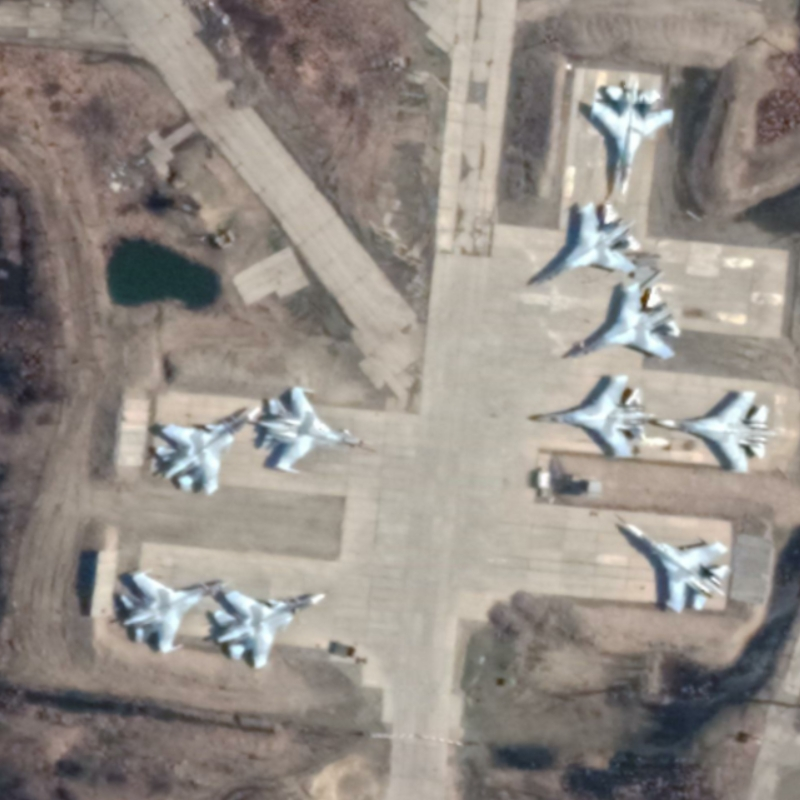A1: (611, 509, 734, 616), (249, 383, 382, 478), (529, 372, 663, 461), (649, 387, 780, 478), (586, 73, 677, 196), (529, 198, 646, 290), (115, 566, 234, 655), (567, 279, 685, 363)
A19: (150, 403, 264, 499), (209, 585, 328, 671)
